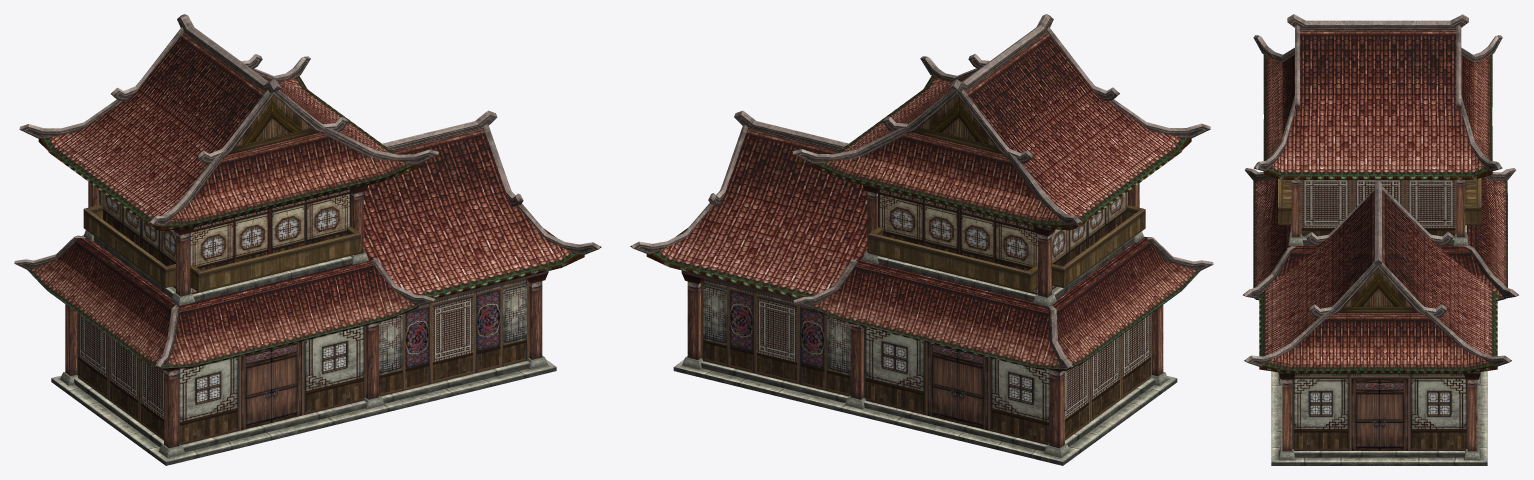
Rendered from a1-007-itemshop.fbx.
3 renders of one model, left to right at view 1: azimuth 30°, elevation 25°; view 2: azimuth 150°, elevation 25°; view 3: azimuth 270°, elevation 25°, orthographic. The views are drawn at different scales.
Visible parts, largest first — view 1: Object02; view 2: Object02; view 3: Object02.
Part boxes in pixels (x1=…): Object02: x1=14, y1=14, x2=601, y2=465; Object02: x1=630, y1=14, x2=1213, y2=465; Object02: x1=1243, y1=14, x2=1518, y2=465.
Size of the model in its own units: 18.41 by 13.68 by 10.48.
